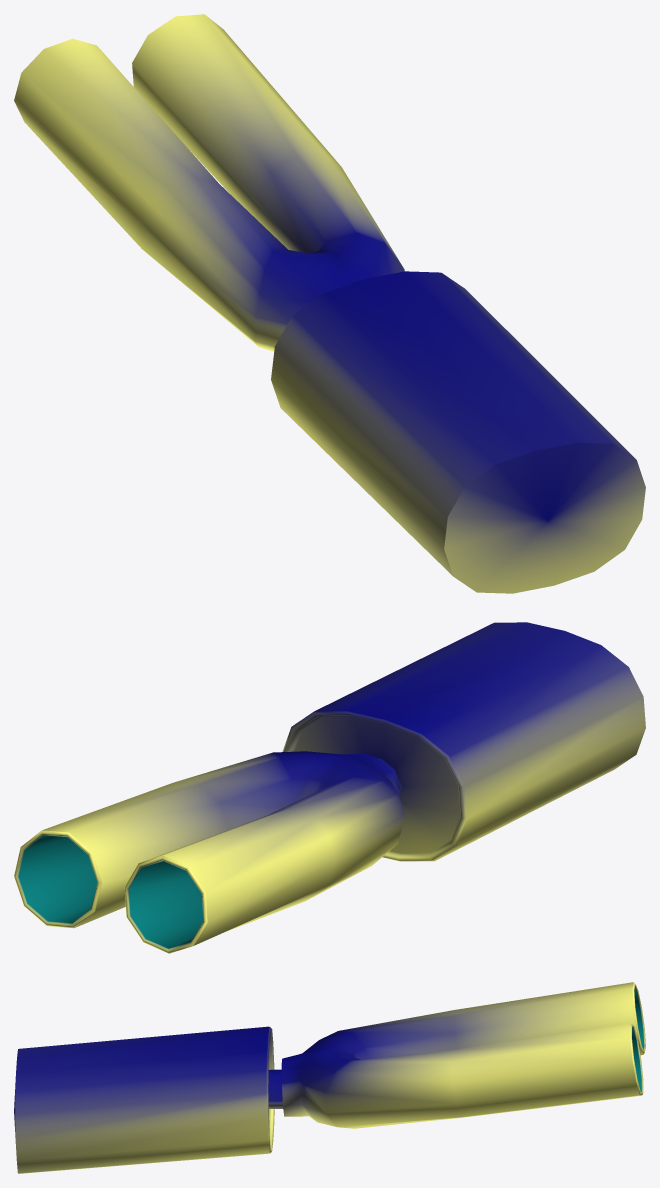
The model's file is Car_Nissan_SkylineGTRVspecR34_1999_Exhausts_SetFG.fbx.
3 renders of one model, top to bottom at view 1: azimuth 30°, elevation 25°; view 2: azimuth 150°, elevation 25°; view 3: azimuth 270°, elevation 25°, orthographic. The views are drawn at different scales.
Parts seen in each view (by area): view 1: Exhausts 6; view 2: Exhausts 6; view 3: Exhausts 6.
Part boxes in pixels (box(x1,y1,x2,y2)): Exhausts 6: box(14, 14, 645, 593); Exhausts 6: box(14, 622, 645, 953); Exhausts 6: box(14, 982, 645, 1173).
Bounding box in the file's own units: 0.1734 × 0.1719 × 0.6085.
